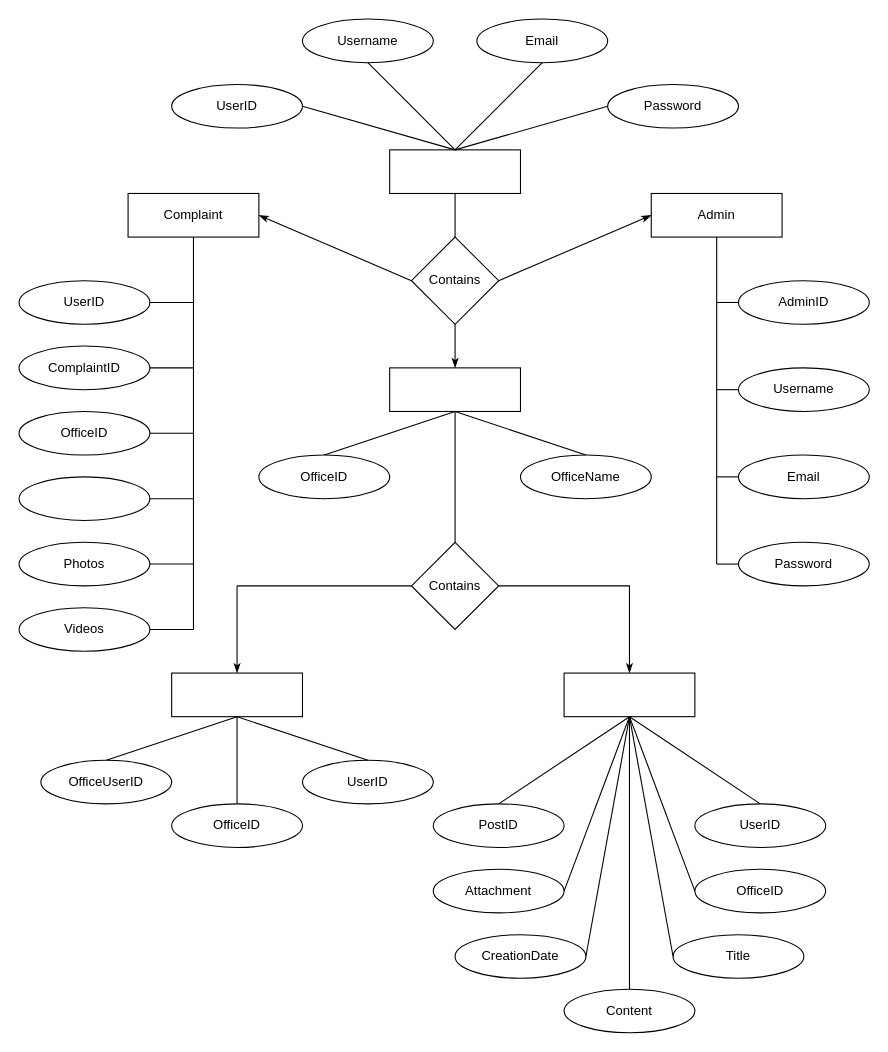
Image size: 888x1052. Some labels were removed from this diagram. The box of each missing label's shape, as (x1, y1, x2, y2) in pixels:
Details: (18, 476, 150, 520)
Office: (389, 367, 520, 411)
Office User: (171, 672, 302, 717)
Post: (563, 672, 695, 717)
User: (389, 149, 520, 193)
